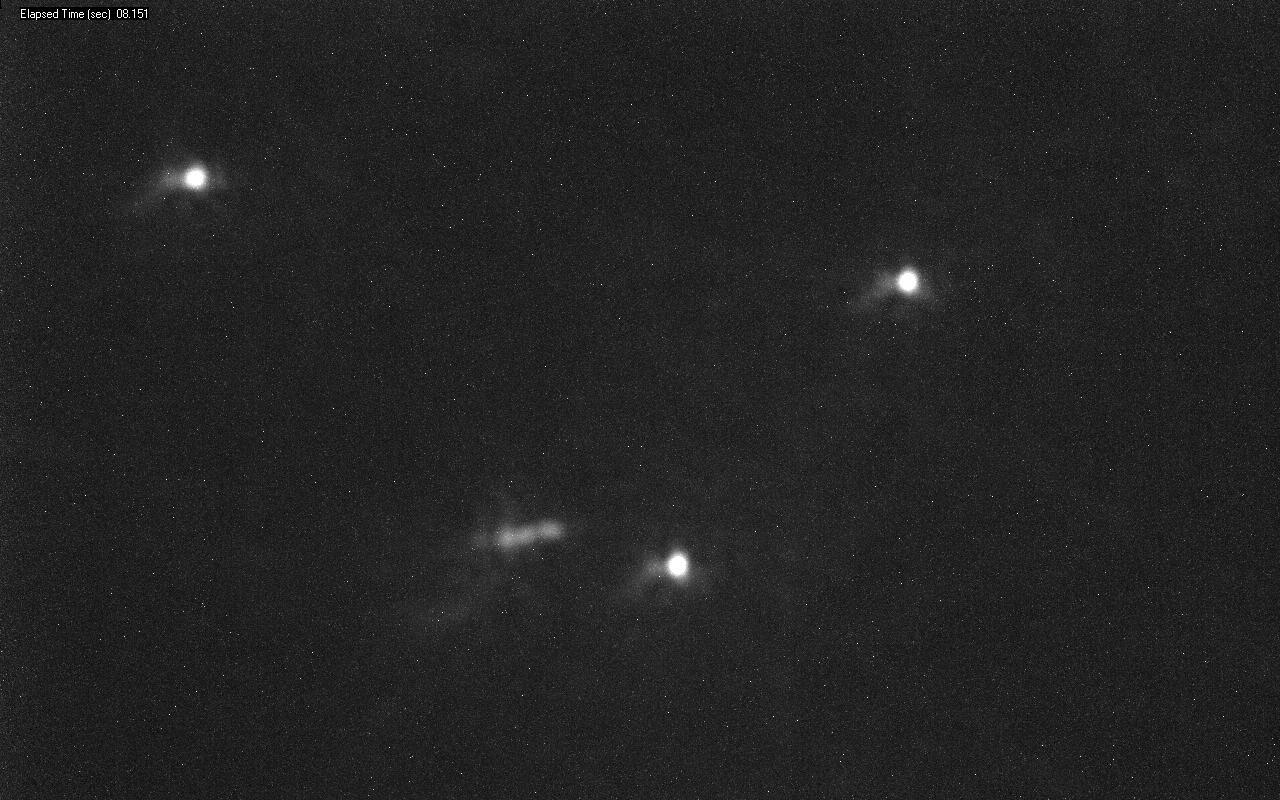Bead: (662, 546, 690, 581), (893, 268, 921, 296), (181, 167, 209, 191)
